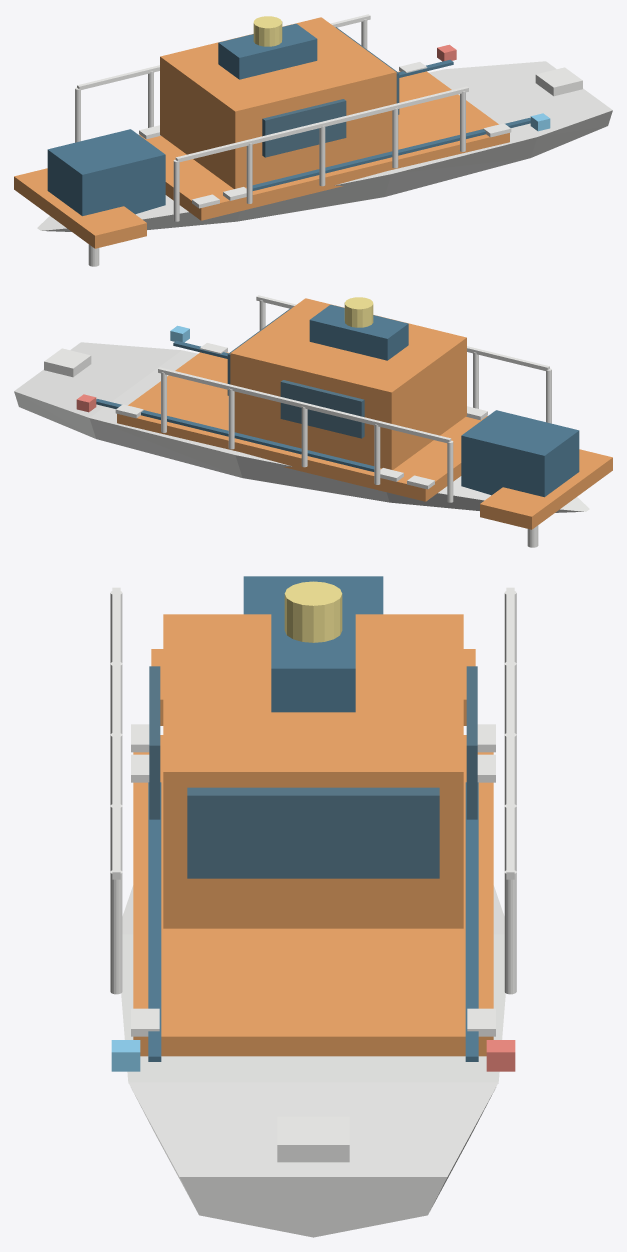
File: coastguard_r9.glb
3 views of the same model, one above another, from view 1: azimuth 30°, elevation 25°; view 2: azimuth 150°, elevation 25°; view 3: azimuth 270°, elevation 25° (orthographic). The views are drawn at different scales.
Parts seen in each view (by area): view 1: 02_Cabin_superstructure, 00_Sculpted_V_planing_hull, 01_Upper_deck, 31_Outboard_engine_cowling, 36_Stern_swim_platform, 37_Rescue_equipment_pod, 05_Cabin_side_glazing, 30_Safety_rail, 12_Racing_pinstripe, 33_Bow_cleat, 38_Emergency_beacon, 24_Safety_rail (+5 smaller); view 2: 02_Cabin_superstructure, 00_Sculpted_V_planing_hull, 01_Upper_deck, 31_Outboard_engine_cowling, 36_Stern_swim_platform, 37_Rescue_equipment_pod, 04_Cabin_side_glazing, 24_Safety_rail, 11_Racing_pinstripe, 33_Bow_cleat, 38_Emergency_beacon, 30_Safety_rail (+5 smaller); view 3: 02_Cabin_superstructure, 00_Sculpted_V_planing_hull, 01_Upper_deck, 03_Panoramic_windshield, 37_Rescue_equipment_pod, 33_Bow_cleat, 11_Racing_pinstripe, 12_Racing_pinstripe, 38_Emergency_beacon, 31_Outboard_engine_cowling, 24_Safety_rail, 30_Safety_rail (+7 smaller).
Part boxes in pixels (x1,y1,x2,y2): 02_Cabin_superstructure: [160, 17, 396, 188]; 00_Sculpted_V_planing_hull: [37, 61, 612, 231]; 01_Upper_deck: [139, 71, 509, 220]; 31_Outboard_engine_cowling: [47, 129, 165, 216]; 36_Stern_swim_platform: [14, 168, 146, 248]; 37_Rescue_equipment_pod: [218, 23, 317, 79]; 05_Cabin_side_glazing: [262, 99, 346, 157]; 30_Safety_rail: [175, 86, 468, 161]; 12_Racing_pinstripe: [252, 118, 530, 190]; 33_Bow_cleat: [535, 67, 582, 96]; 38_Emergency_beacon: [253, 16, 282, 46]; 24_Safety_rail: [77, 14, 370, 89]; 02_Cabin_superstructure: [230, 298, 466, 469]; 00_Sculpted_V_planing_hull: [14, 342, 589, 512]; 01_Upper_deck: [117, 352, 487, 501]; 31_Outboard_engine_cowling: [461, 410, 579, 497]; 36_Stern_swim_platform: [480, 449, 612, 529]; 37_Rescue_equipment_pod: [309, 304, 408, 360]; 04_Cabin_side_glazing: [280, 380, 364, 438]; 24_Safety_rail: [158, 367, 451, 442]; 11_Racing_pinstripe: [96, 399, 374, 471]; 33_Bow_cleat: [44, 348, 91, 377]; 38_Emergency_beacon: [344, 297, 373, 327]; 30_Safety_rail: [256, 295, 549, 370]; 02_Cabin_superstructure: [163, 614, 463, 928]; 00_Sculpted_V_planing_hull: [121, 885, 505, 1237]; 01_Upper_deck: [133, 735, 493, 1056]; 03_Panoramic_windshield: [187, 787, 439, 878]; 37_Rescue_equipment_pod: [271, 592, 355, 712]; 33_Bow_cleat: [277, 1116, 349, 1162]; 11_Racing_pinstripe: [465, 782, 478, 1061]; 12_Racing_pinstripe: [148, 782, 161, 1061]; 38_Emergency_beacon: [284, 581, 342, 642]; 31_Outboard_engine_cowling: [243, 576, 383, 614]; 24_Safety_rail: [506, 587, 514, 879]; 30_Safety_rail: [112, 587, 120, 879].
Size of the model in its own units: 5.19 by 1.83 by 1.69.
